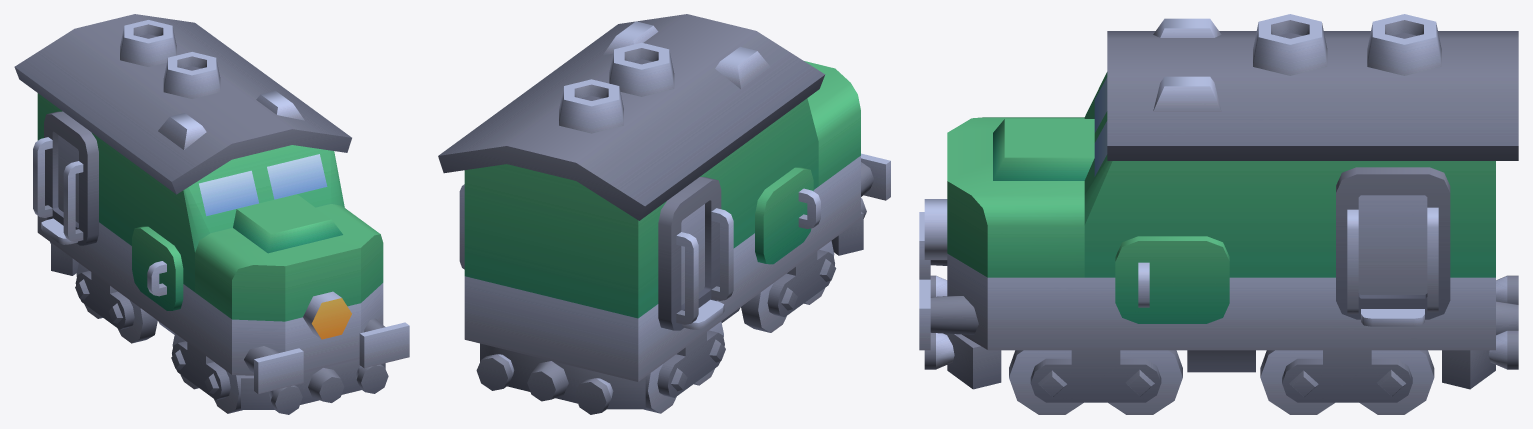
Rendered from kenney-train-train-diesel-box-a.glb.
3 views of the same model, side by side, from view 1: azimuth 30°, elevation 25°; view 2: azimuth 150°, elevation 25°; view 3: azimuth 270°, elevation 25° (orthographic). The views are drawn at different scales.
Visible parts, largest first — view 1: train-diesel-box-a, wheels-back, wheels-front; view 2: train-diesel-box-a, wheels-front, wheels-back; view 3: train-diesel-box-a, wheels-back, wheels-front.
Boxes of the visible parts, box(x1,y1,x2,y2) form: train-diesel-box-a: box(14, 14, 409, 414); wheels-back: box(75, 263, 157, 343); wheels-front: box(171, 333, 242, 413); train-diesel-box-a: box(438, 14, 890, 414); wheels-front: box(741, 241, 836, 332); wheels-back: box(644, 321, 725, 413); train-diesel-box-a: box(919, 14, 1518, 389); wheels-back: box(1260, 350, 1434, 414); wheels-front: box(1009, 350, 1182, 414).
Size of the model in its own units: 1.35 by 1.67 by 2.62.
1 material, 1 textured.
